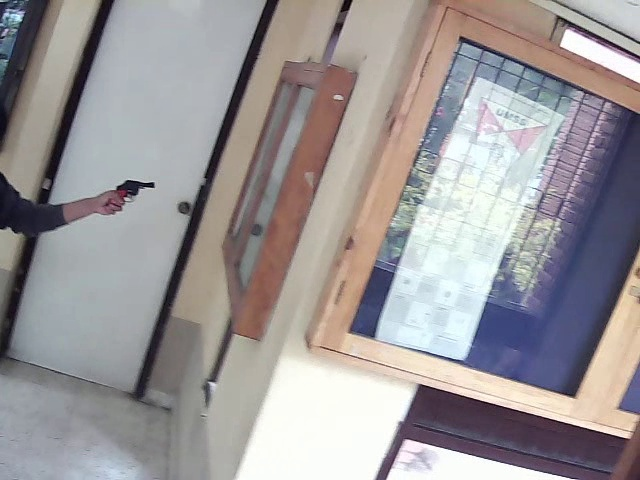pistola: (113, 168, 160, 206)
